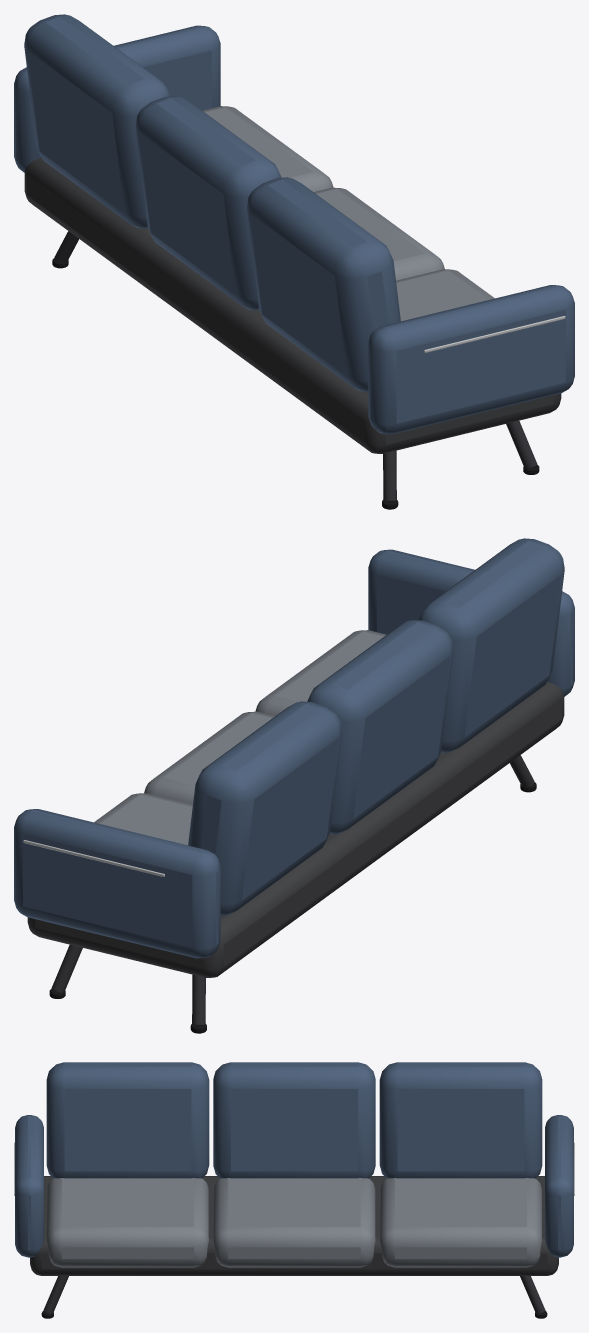
File: sofa_3.glb
The picture shows the model from 3 angles, top to bottom: view 1: azimuth 30°, elevation 25°; view 2: azimuth 150°, elevation 25°; view 3: azimuth 270°, elevation 25°; orthographic projection. The views are drawn at different scales.
Visible parts, largest first — view 1: Sofá de tres plazas; view 2: Sofá de tres plazas; view 3: Sofá de tres plazas.
Part boxes in pixels (<box>): Sofá de tres plazas: <box>14,14,574,509</box>; Sofá de tres plazas: <box>14,538,574,1033</box>; Sofá de tres plazas: <box>14,1062,574,1318</box>.
Size of the model in its own units: 0.7402 by 0.8433 by 2.21.
